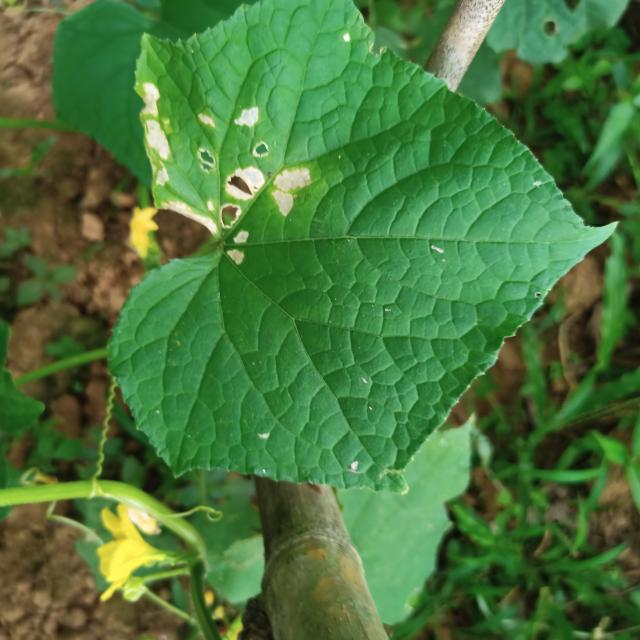disease_cucumber: (140, 81, 311, 265)
